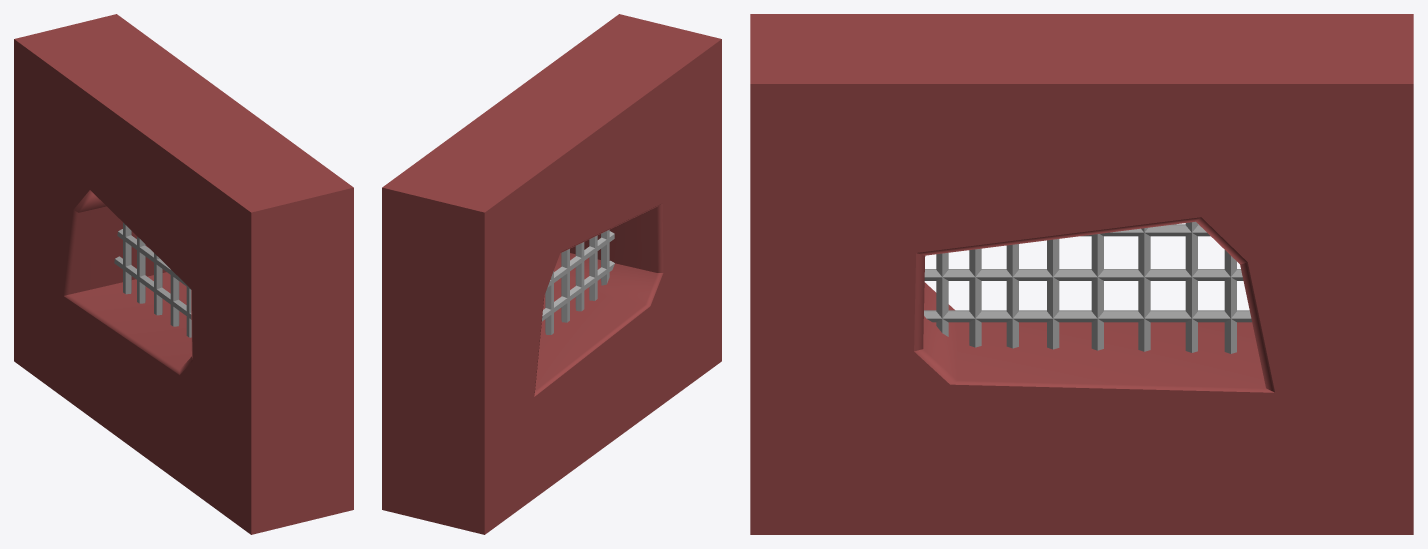
Rendered from Window A.fbx.
The picture shows the model from 3 angles, left to right: view 1: azimuth 30°, elevation 25°; view 2: azimuth 150°, elevation 25°; view 3: azimuth 270°, elevation 25°; orthographic projection. The views are drawn at different scales.
Parts seen in each view (by area): view 1: Wall_Window_4x1_A, Mini_Bars12; view 2: Wall_Window_4x1_A, Mini_Bars12; view 3: Wall_Window_4x1_A, Mini_Bars12.
Boxes of the visible parts, x1,y1,x2,y2 form: Wall_Window_4x1_A: (14,14,353,534); Mini_Bars12: (114,222,191,337); Wall_Window_4x1_A: (382,14,721,534); Mini_Bars12: (542,230,614,334); Wall_Window_4x1_A: (750,14,1413,534); Mini_Bars12: (924,221,1251,353).
Bounding box in the file's own units: 1 × 3 × 4.
